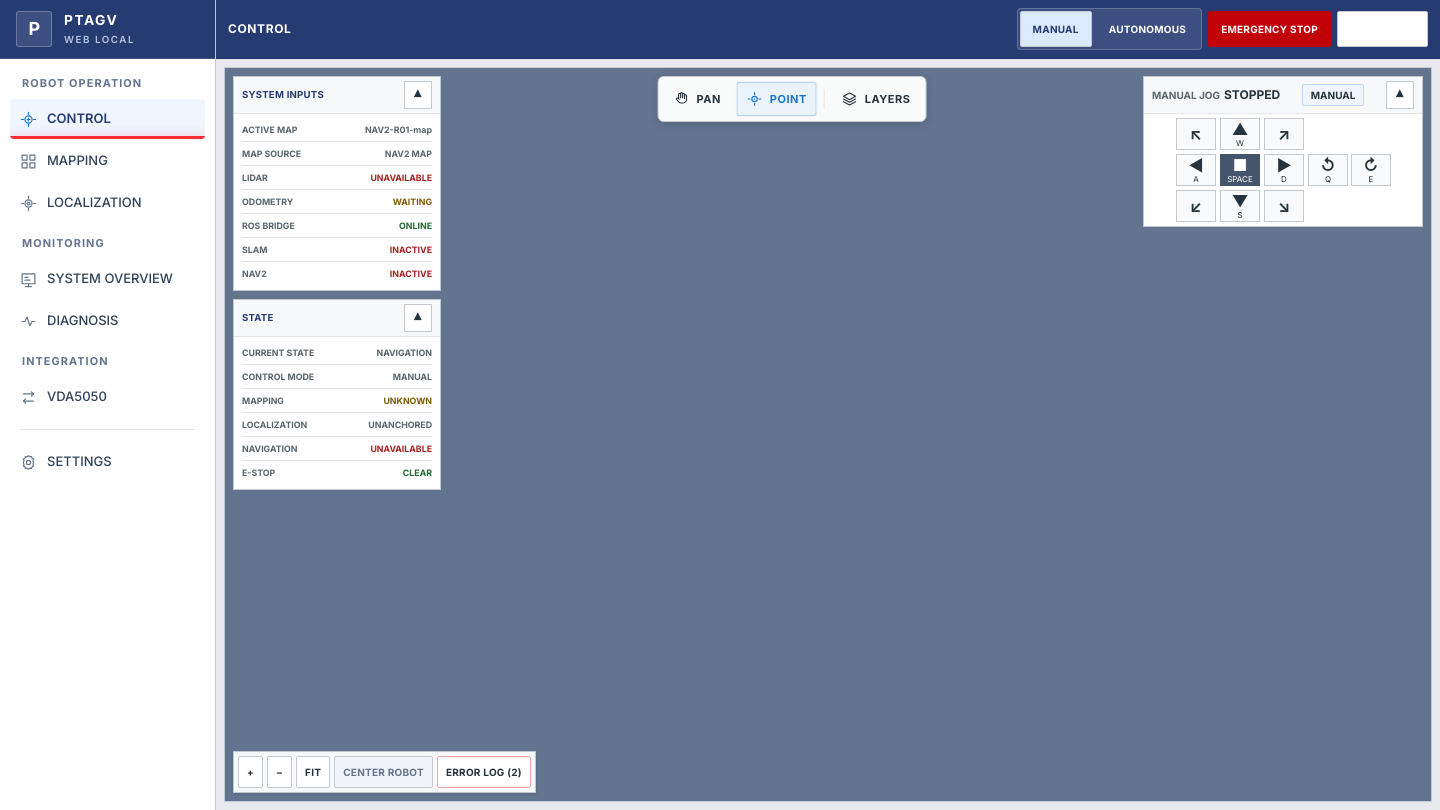
it: robot detail route stability › opens the error modal with newest real runtime errors first and uses a dash when no source is provided
The image size is (1440, 810).
Click the button with test id "control-error-log-trigger" at (484,772), box [437,756,531,788]
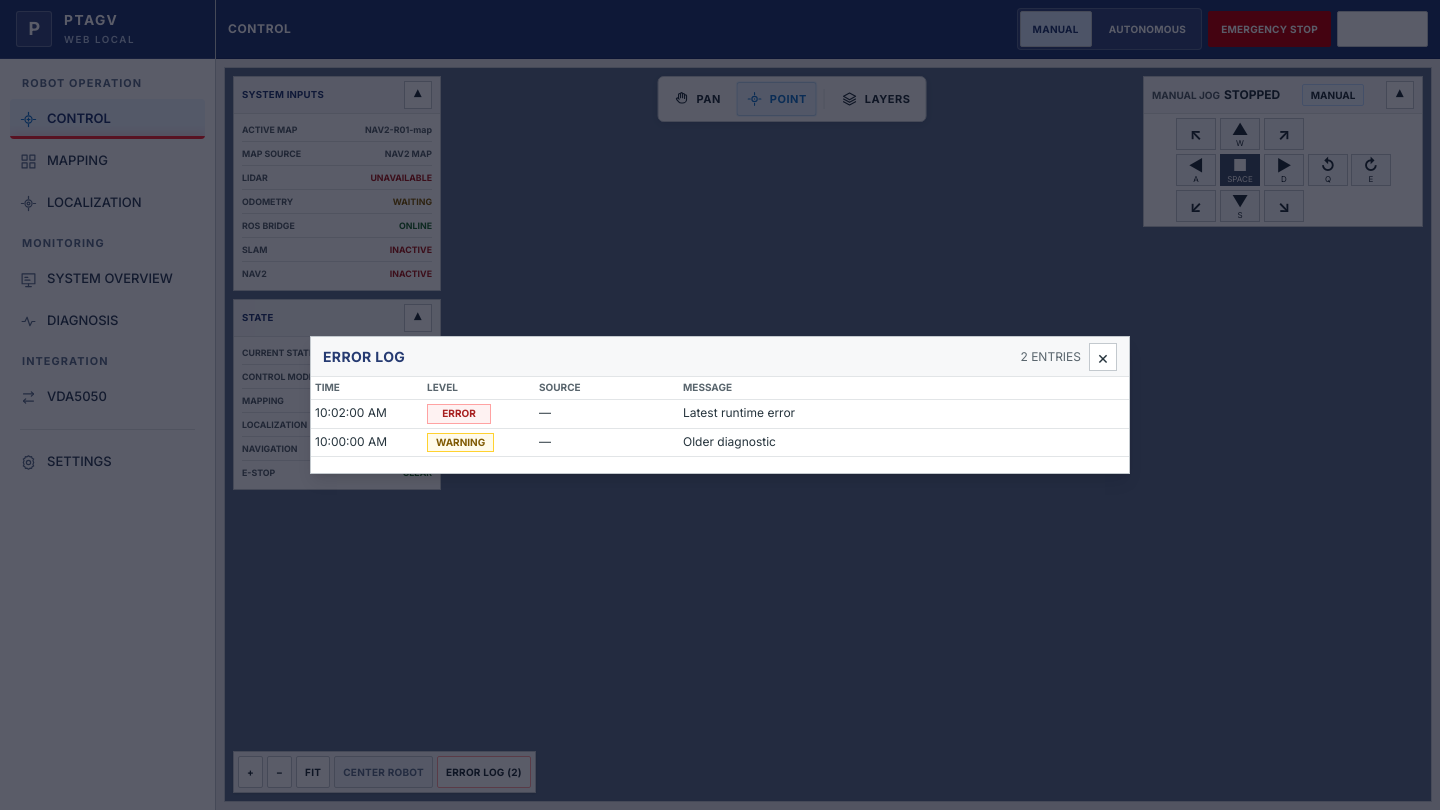
Expected: the dialog named "Error log" is shown, [310,336,1130,474]
Expected: the row "10:02:00 AM ERROR — Latest runtime error" is shown, [311,399,1129,428]
Expected: the row "10:00:00 AM WARNING — Older diagnostic" is shown, [311,428,1129,457]
